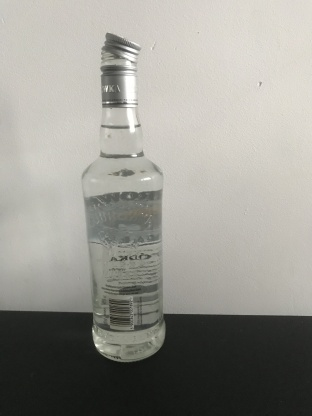nakretka: (98, 29, 142, 108)
